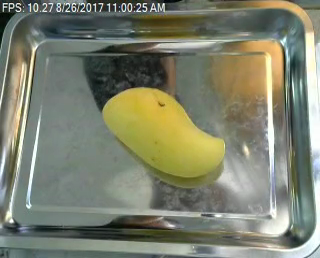Mango: (100, 85, 228, 181)
